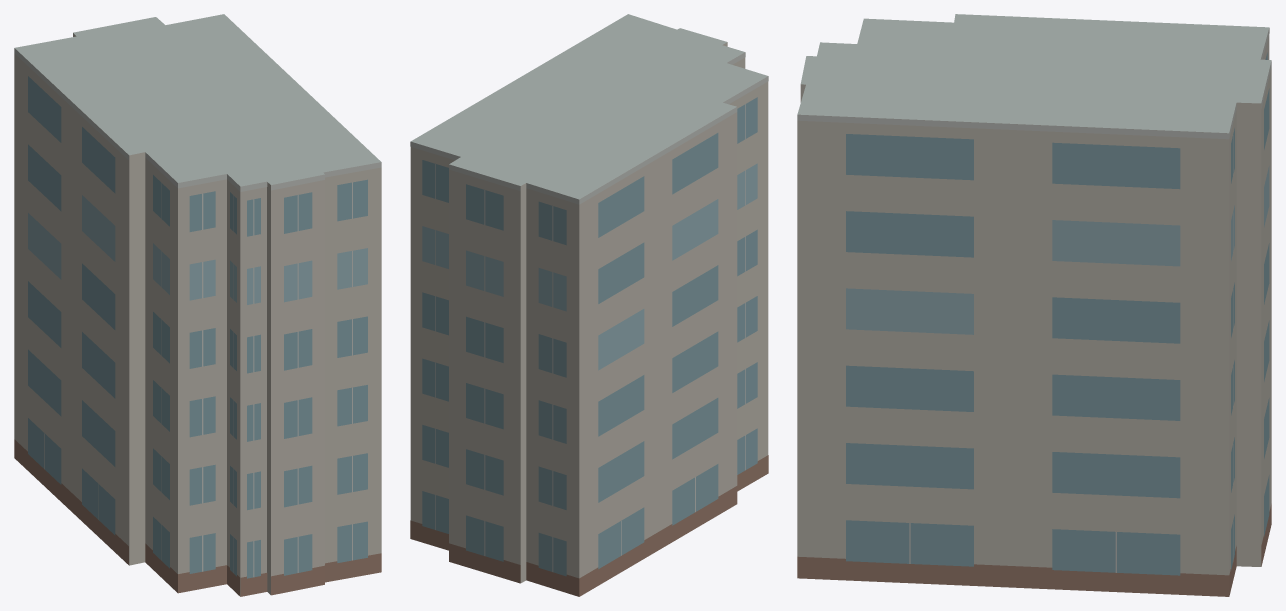
Rendered from survey-upis-32527841.glb.
The picture shows the model from 3 angles, left to right: view 1: azimuth 30°, elevation 25°; view 2: azimuth 150°, elevation 25°; view 3: azimuth 270°, elevation 25°; orthographic projection. The views are drawn at different scales.
Visible parts, largest first — view 1: survey-upis-32527841.tmp; view 2: survey-upis-32527841.tmp; view 3: survey-upis-32527841.tmp.
Boxes of the visible parts, left/top/right/bottom form: survey-upis-32527841.tmp: left=14, top=14, right=381, bottom=596; survey-upis-32527841.tmp: left=410, top=14, right=768, bottom=596; survey-upis-32527841.tmp: left=797, top=14, right=1271, bottom=596.
Size of the model in its own units: 10.27 by 18.6 by 17.25.
